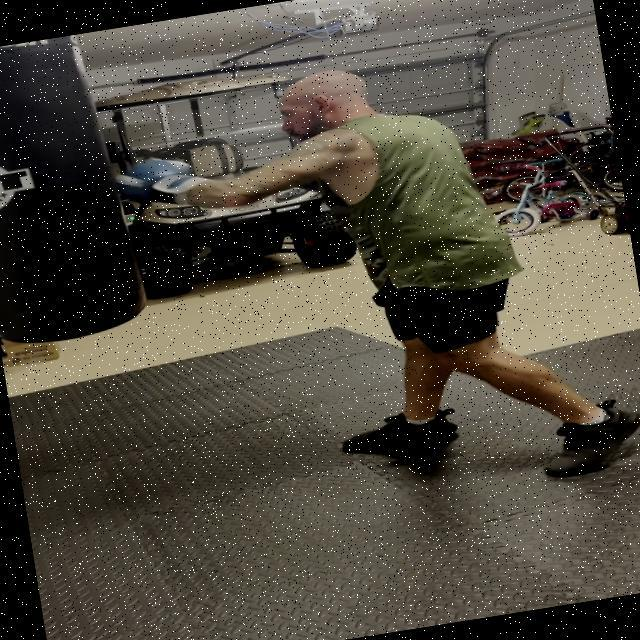bag: (0, 33, 140, 379)
cross: (82, 43, 476, 262)
